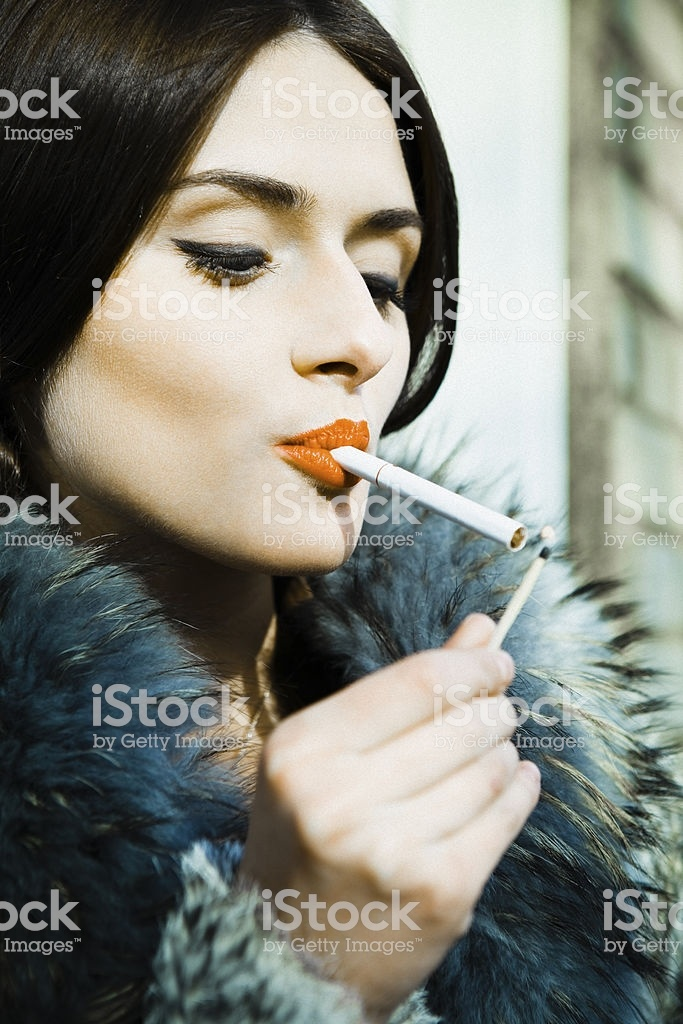sigaretta: (320, 441, 520, 555)
